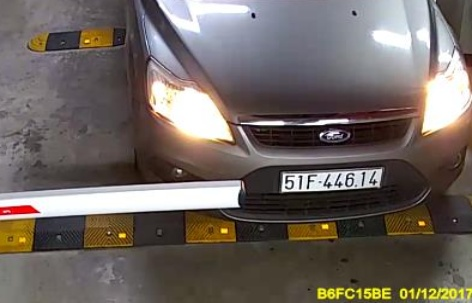plate: (275, 165, 385, 196)
